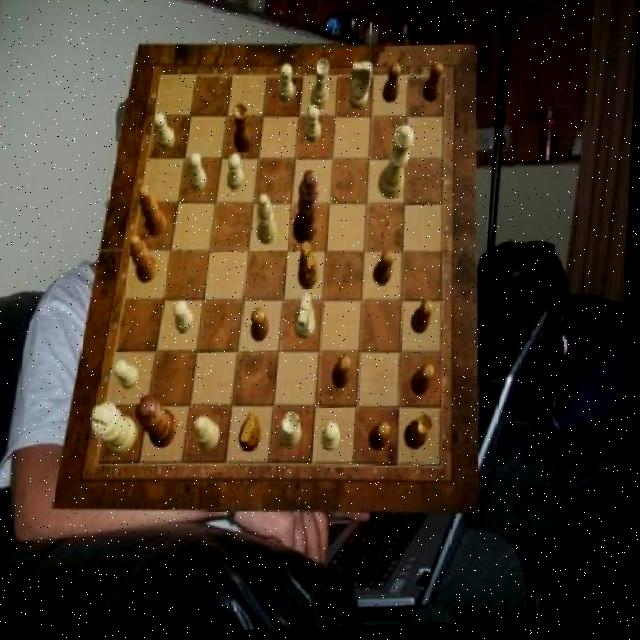bishop: (139, 185, 171, 237), (130, 235, 162, 285)
black-bishop: (296, 172, 323, 247)
black-king: (302, 243, 324, 292), (244, 415, 269, 454)
black-knight: (413, 302, 437, 337), (416, 366, 440, 400), (425, 67, 445, 106), (375, 253, 397, 288), (383, 67, 401, 107), (373, 423, 395, 455), (254, 308, 274, 343), (336, 357, 355, 391)
black-pawn: (138, 396, 184, 452)
black-queen: (233, 106, 256, 156), (410, 416, 439, 453)
black-rook: (257, 196, 282, 248), (198, 417, 226, 454)
white-bishop: (94, 402, 143, 457)
white-king: (298, 297, 321, 343), (352, 66, 374, 114)
white-knight: (153, 113, 177, 152), (190, 154, 211, 194), (118, 362, 145, 392), (177, 301, 199, 336), (278, 65, 297, 104), (229, 154, 247, 192), (306, 108, 324, 146), (326, 423, 345, 453)
white-pawn: (379, 128, 416, 203)
white-queen: (312, 61, 332, 112), (284, 415, 309, 452)
